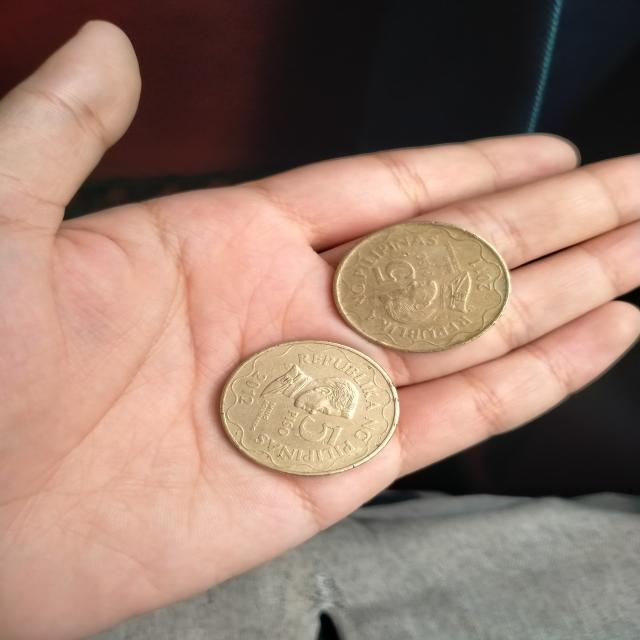5_Old_Front: (360, 249, 449, 294), (269, 406, 347, 456)
